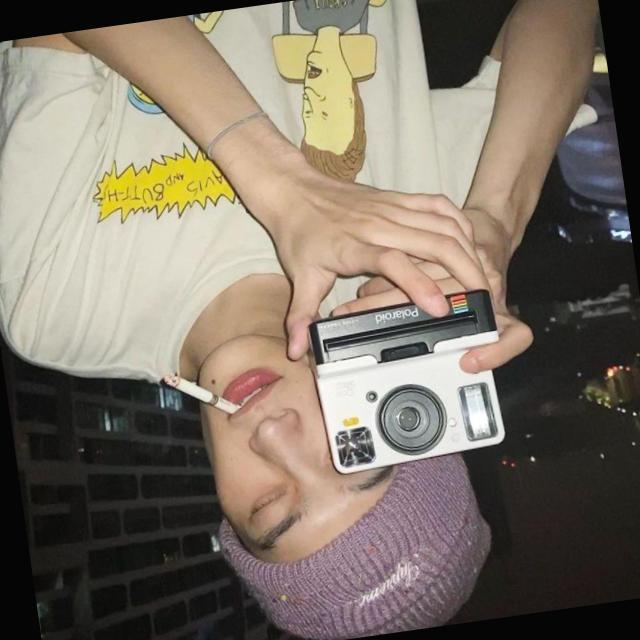smoke: (147, 357, 255, 442)
